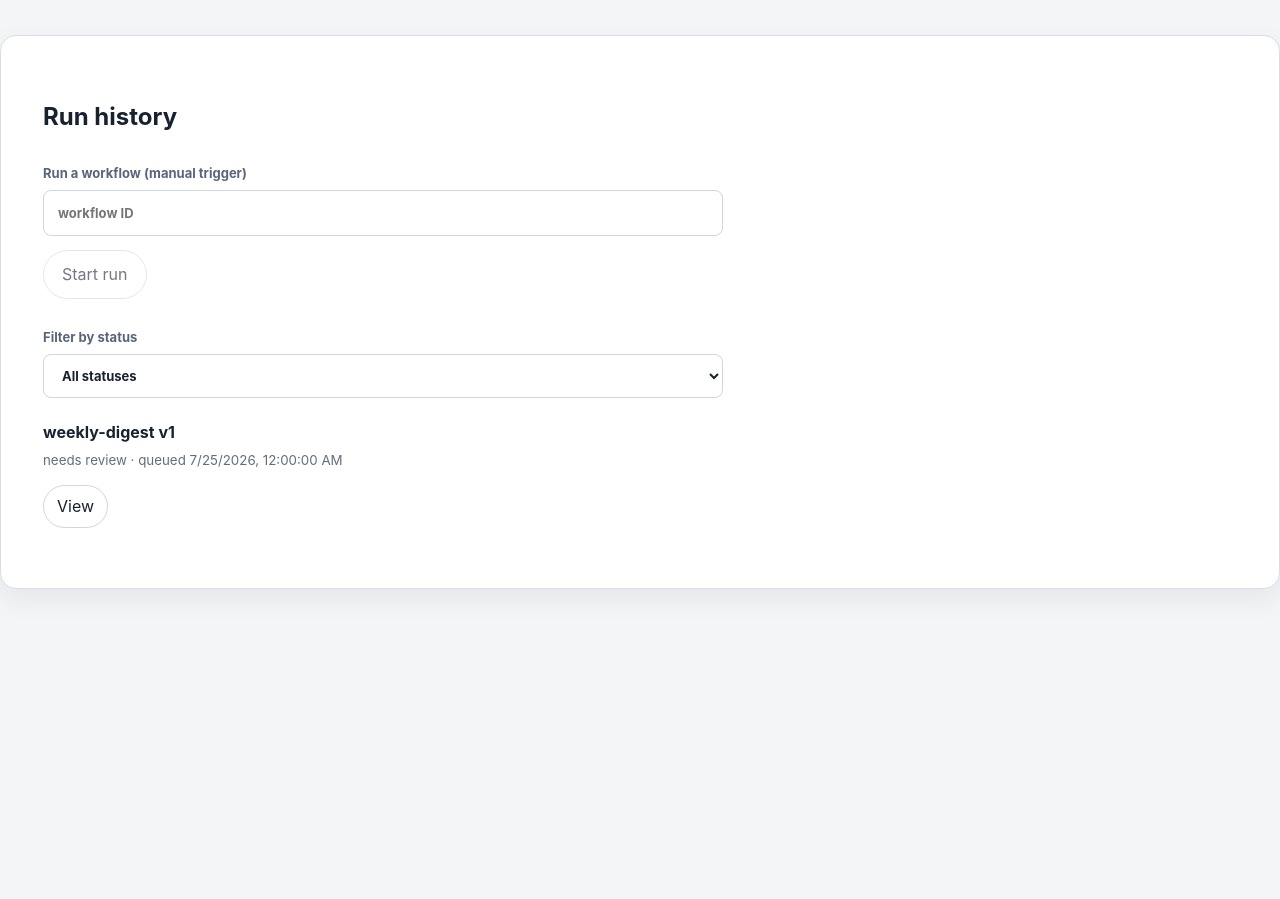
Test case: RunWorkspace › names a scope block as the cause, instead of "no further cause"
The image size is (1280, 899).
What coordinates should you click on to do the following:
click the button "View"
I would click on:
 (76, 506)
Its box is [43, 485, 108, 528].
(page scrolled)
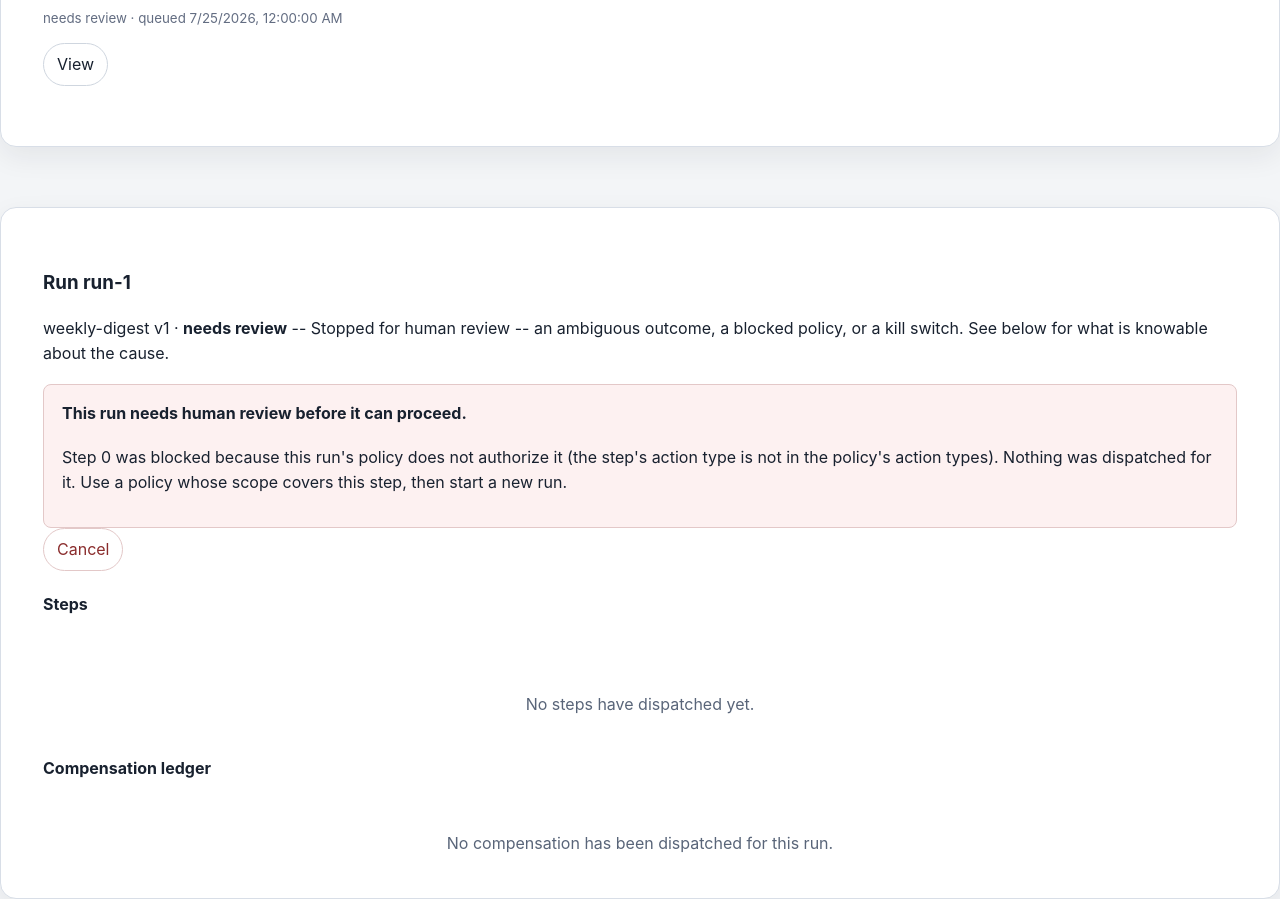
Expected: the text "Step 0 was blocked because this run's policy does not authorize it" is shown, [62, 445, 1218, 495]
Expected: the text "action type is not in the policy's action types" is shown, [573, 447, 988, 467]
